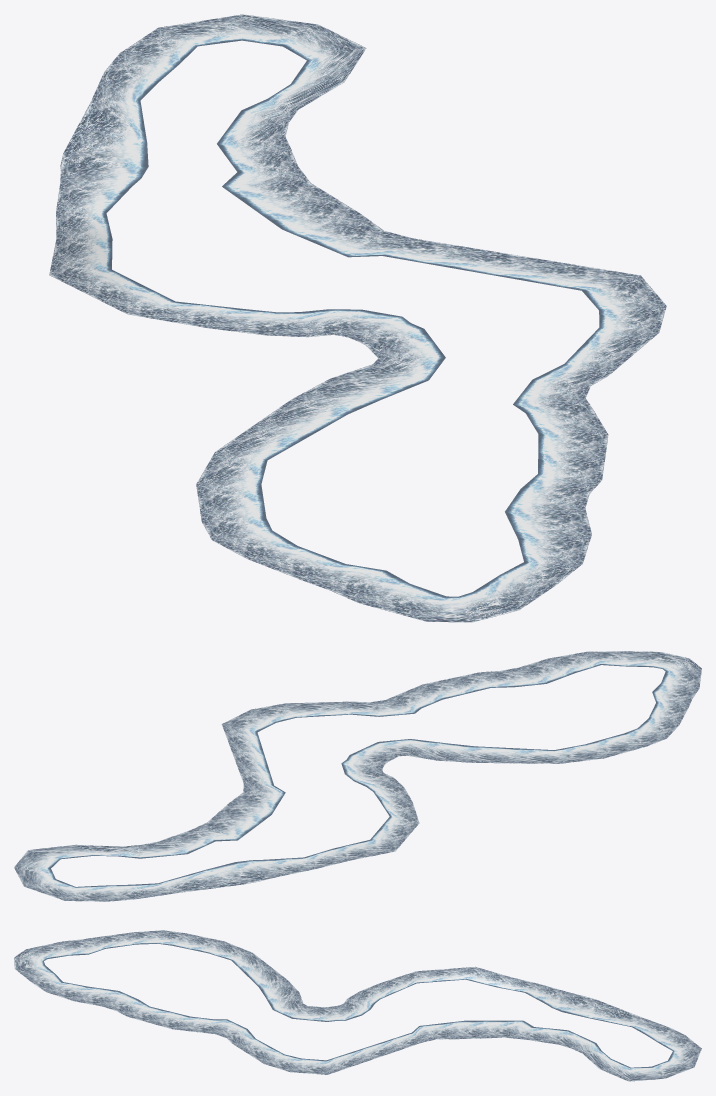
The model's file is snow_island_12_coast.fbx.
3 renders of one model, top to bottom at view 1: azimuth 30°, elevation 25°; view 2: azimuth 150°, elevation 25°; view 3: azimuth 270°, elevation 25°, orthographic. The views are drawn at different scales.
Parts seen in each view (by area): view 1: snow_island_12_coast; view 2: snow_island_12_coast; view 3: snow_island_12_coast.
Boxes of the visible parts, x1,y1,x2,y2 form: snow_island_12_coast: (49, 14, 666, 622); snow_island_12_coast: (14, 651, 701, 901); snow_island_12_coast: (14, 930, 701, 1081).
Size of the model in its own units: 0.8644 by 0 by 1.66.
